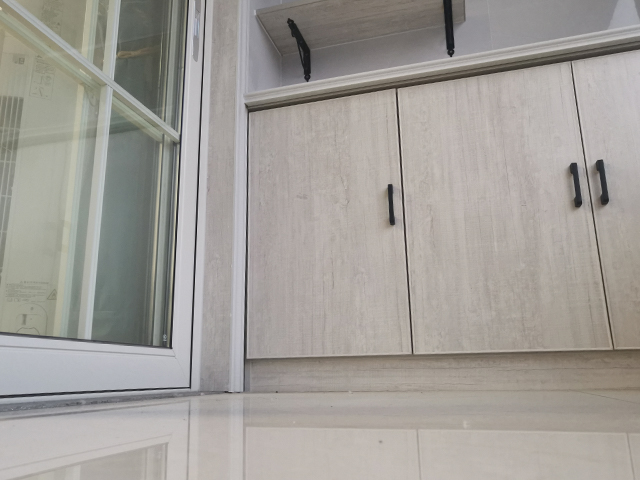cabinet: (241, 21, 640, 396)
